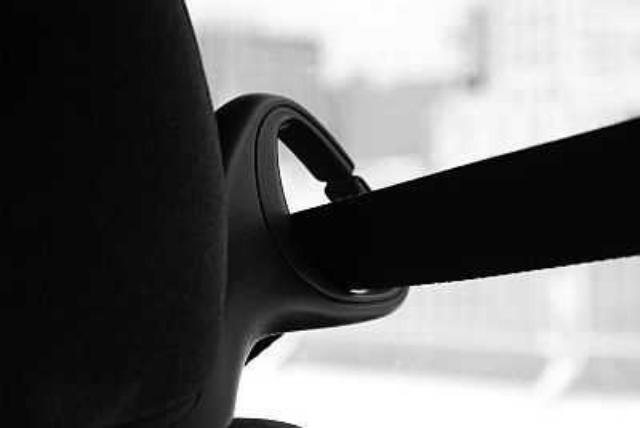Seatbelt: (226, 87, 640, 345)
